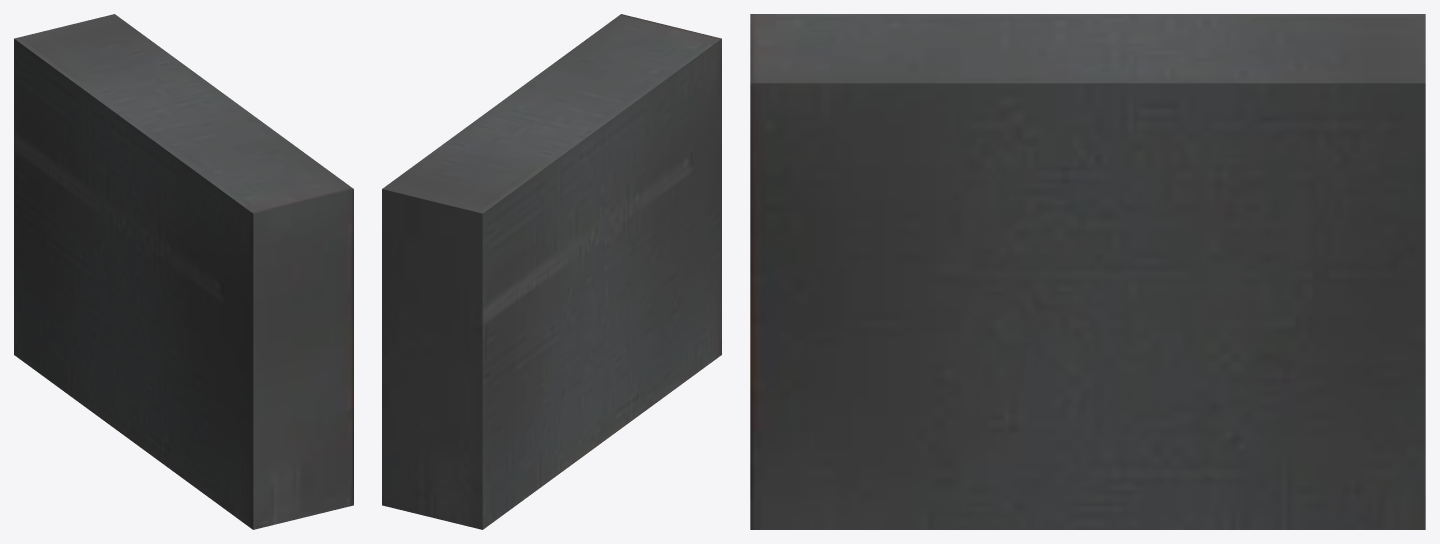
File: drawer__drawer_front_right_rail.glb
3 renders of one model, left to right at view 1: azimuth 30°, elevation 25°; view 2: azimuth 150°, elevation 25°; view 3: azimuth 270°, elevation 25°, orthographic. The views are drawn at different scales.
Parts seen in each view (by area): view 1: geometry_0; view 2: geometry_0; view 3: geometry_0.
Boxes of the visible parts, x1=… form: geometry_0: x1=14, y1=14, x2=353, y2=529; geometry_0: x1=382, y1=14, x2=721, y2=529; geometry_0: x1=750, y1=14, x2=1425, y2=529.
Size of the model in its own units: 0.018 by 0.054 by 0.074.
Materials: 1 (1 with a texture image).
